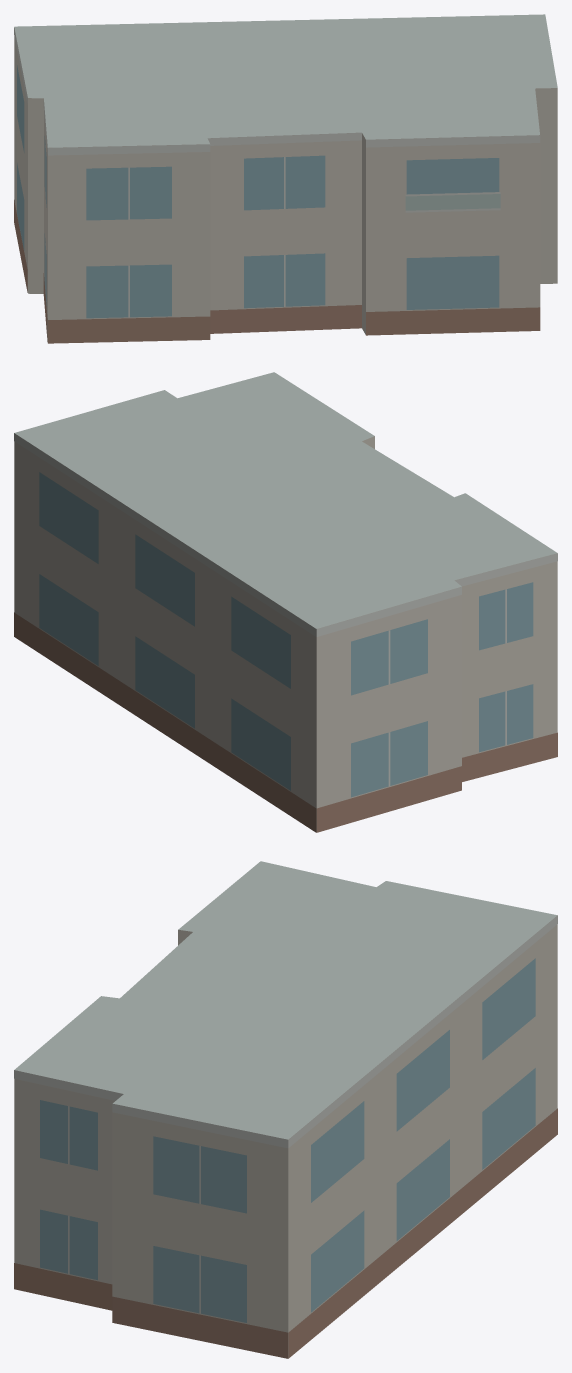
The model's file is survey-upis-32657620.glb.
3 views of the same model, one above another, from view 1: azimuth 30°, elevation 25°; view 2: azimuth 150°, elevation 25°; view 3: azimuth 270°, elevation 25° (orthographic). The views are drawn at different scales.
Parts seen in each view (by area): view 1: survey-upis-32657620.tmp; view 2: survey-upis-32657620.tmp; view 3: survey-upis-32657620.tmp.
Part boxes in pixels (box(x1,y1,x2,y2)): survey-upis-32657620.tmp: box(14, 14, 557, 343); survey-upis-32657620.tmp: box(14, 372, 557, 832); survey-upis-32657620.tmp: box(14, 861, 557, 1358).
Size of the model in its own units: 16.64 by 6.1 by 13.72.
